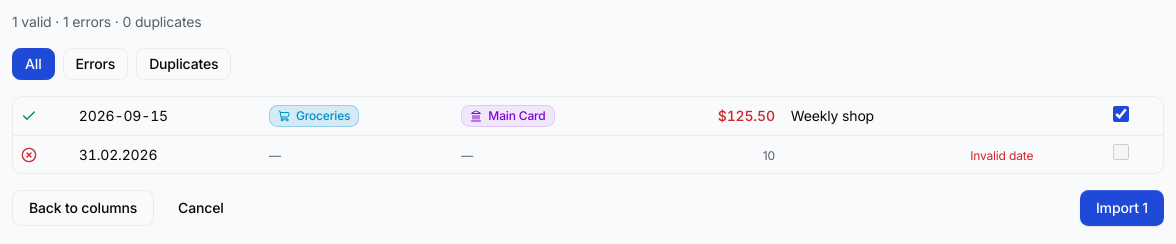
Test case: ImportPreviewTable › notes an empty filter result instead of hiding the table
Step 1. Click the button "Duplicates" → (184, 64), box [136, 48, 231, 80]
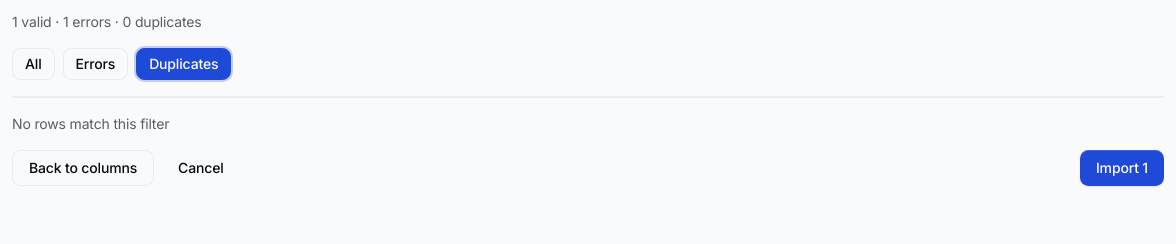
Check: the text "1 valid · 1 errors · 0 duplicates" is shown, box [12, 13, 202, 30]
Check: the text "No rows match this filter" is shown, box [12, 115, 169, 132]
Check: the row with test id "import-row-1" is gone
